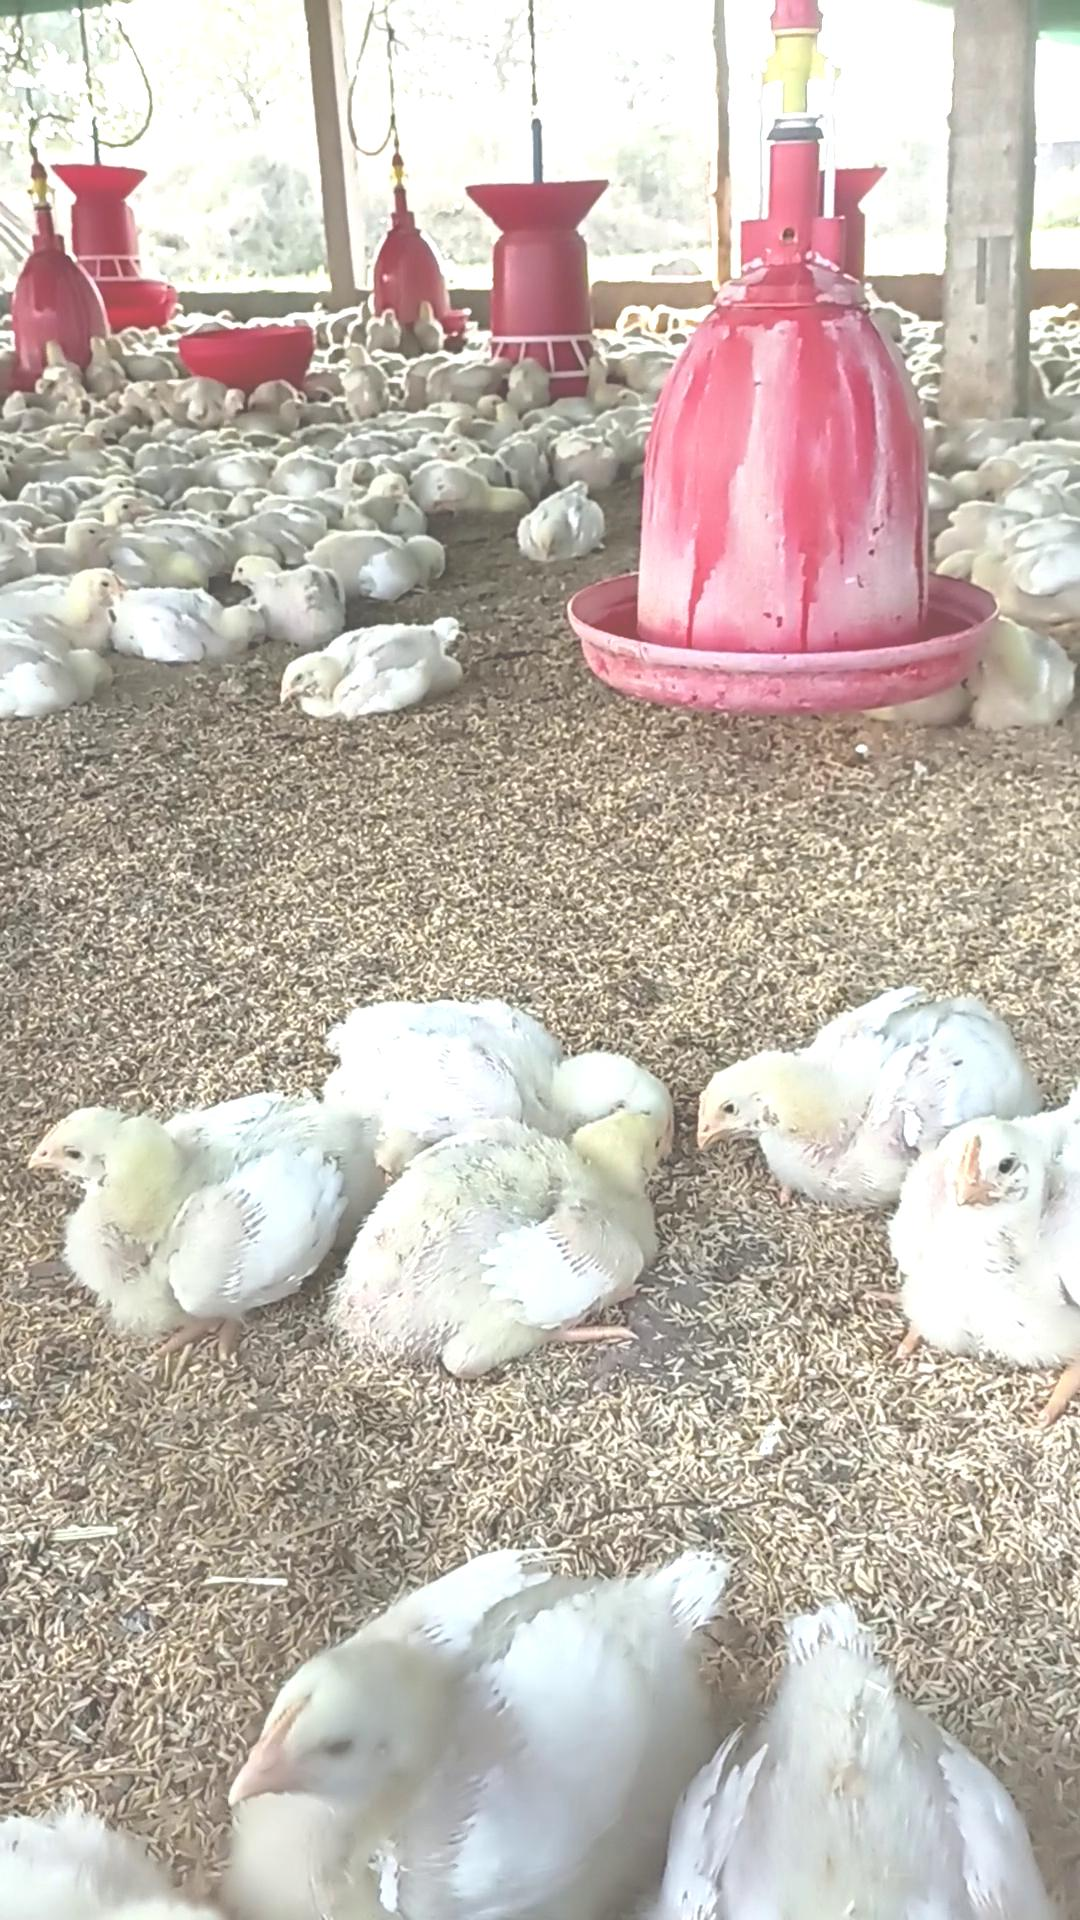Pollos: (225, 1553, 727, 1917), (335, 1104, 671, 1365), (21, 1095, 338, 1336), (897, 1095, 1080, 1342), (694, 1007, 868, 1185), (287, 626, 467, 725), (1, 568, 128, 653), (222, 553, 332, 626), (520, 480, 603, 553)
